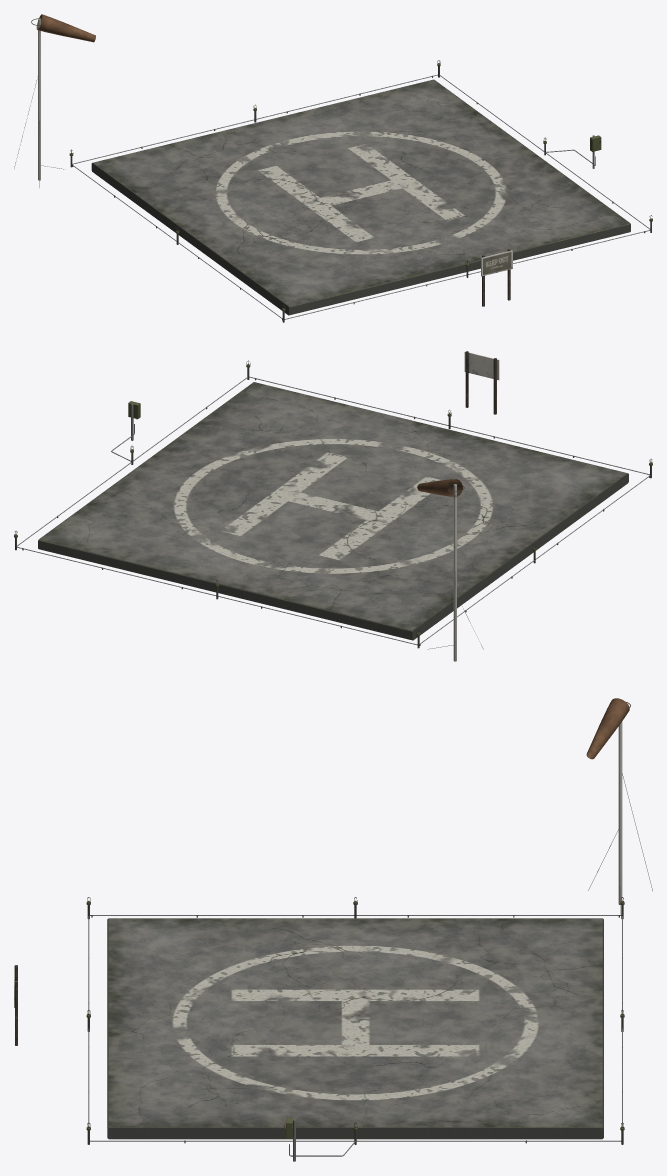
The model's file is helipad.glb.
The picture shows the model from 3 angles, top to bottom: view 1: azimuth 30°, elevation 25°; view 2: azimuth 150°, elevation 25°; view 3: azimuth 270°, elevation 25°; orthographic projection. The views are drawn at different scales.
Parts seen in each view (by area): view 1: helipad; view 2: helipad; view 3: helipad.
Boxes of the visible parts, box(x1,y1,x2,y2) form: helipad: box(14, 14, 652, 322); helipad: box(14, 351, 652, 661); helipad: box(14, 698, 652, 1161).
Bounding box in the file's own units: 15.52 × 5.53 × 15.45.
1 material, 1 textured.
